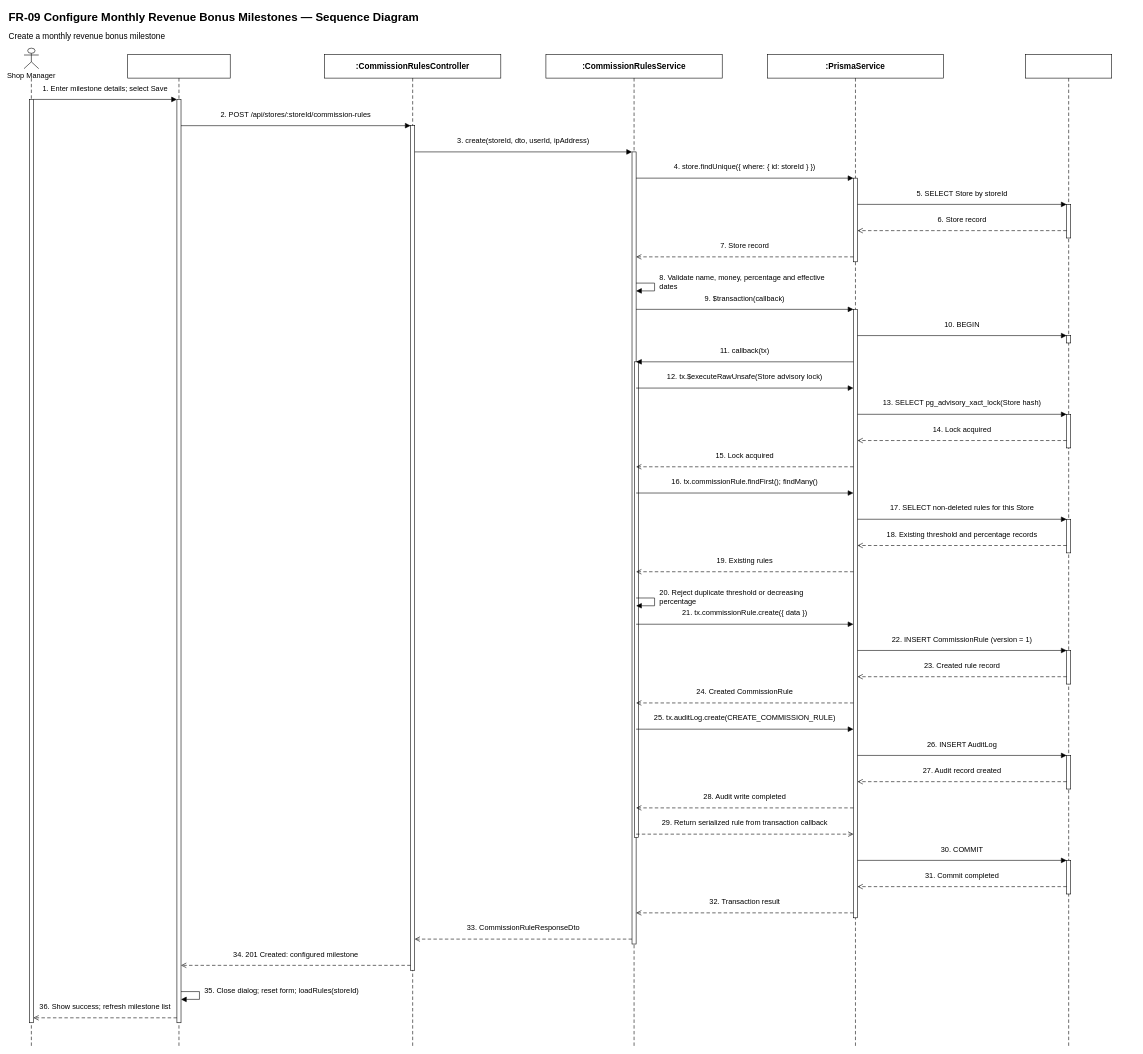
Image size: 1143x1054. Some labels were removed from this diagram. The centre of each missing label's shape, as x and y in pixels:
Browser: (x=178, y=66)
Database: (x=1068, y=66)
